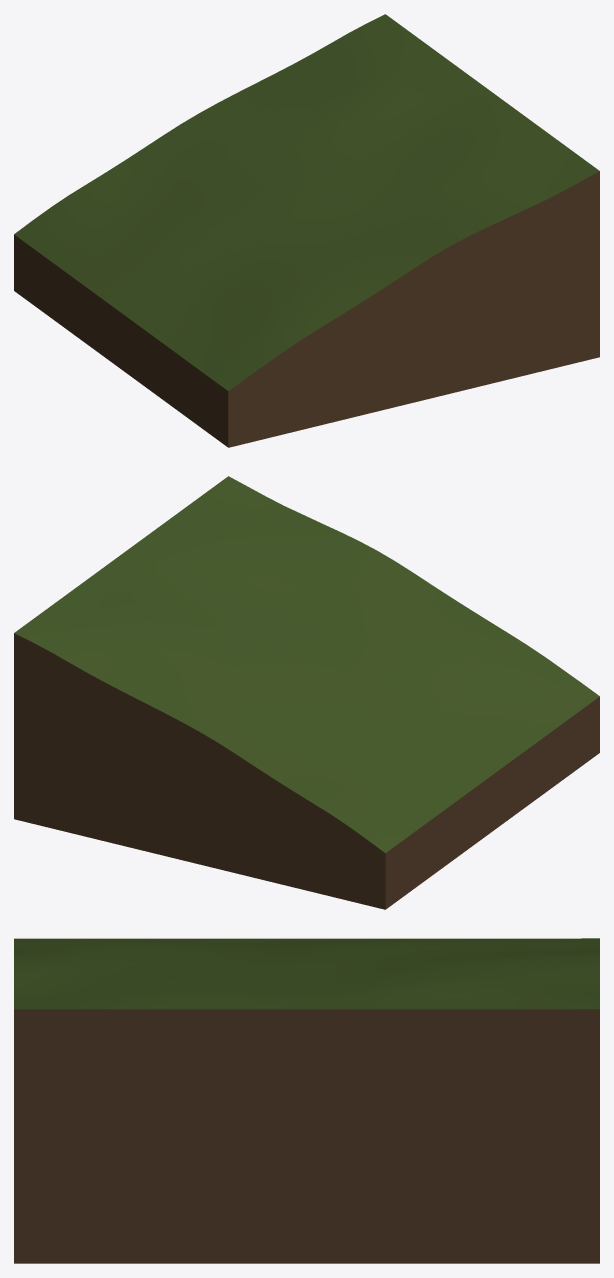
3 views of the same model, one above another, from view 1: azimuth 30°, elevation 25°; view 2: azimuth 150°, elevation 25°; view 3: azimuth 270°, elevation 25° (orthographic). The views are drawn at different scales.
Parts seen in each view (by area): view 1: e12go; view 2: e12go; view 3: e12go.
Part boxes in pixels (bbox=[...]): e12go: bbox=[14, 14, 599, 447]; e12go: bbox=[14, 476, 599, 909]; e12go: bbox=[14, 938, 599, 1263].
Size of the model in its own units: 9 by 4.31 by 9.
